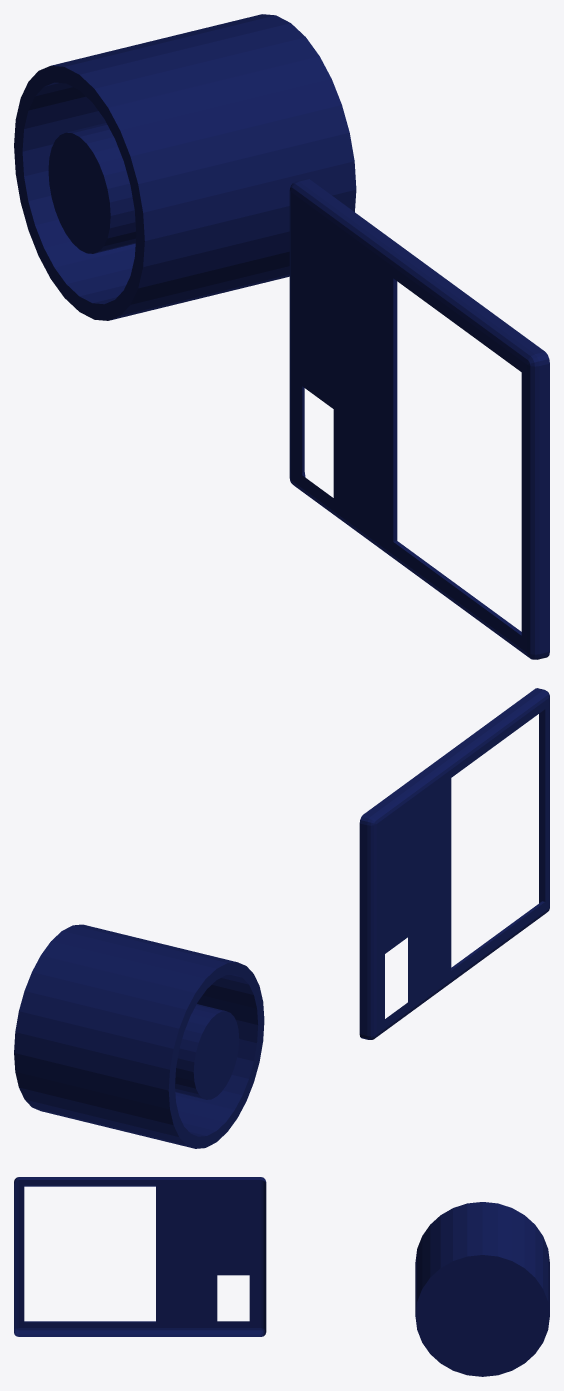
Rendered from body_mdl_0007.obj.
3 views of the same model, one above another, from view 1: azimuth 30°, elevation 25°; view 2: azimuth 150°, elevation 25°; view 3: azimuth 270°, elevation 25° (orthographic). The views are drawn at different scales.
Size of the model in its own units: 0.0875 by 0.1186 by 0.3672.
